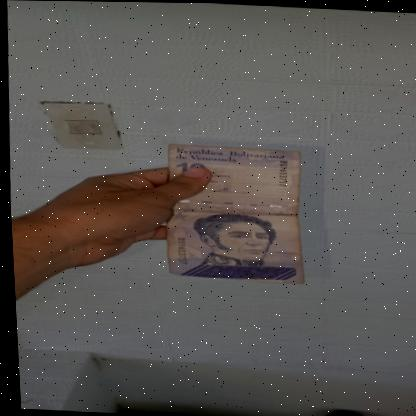ten-front-vef: (157, 143, 309, 285)
